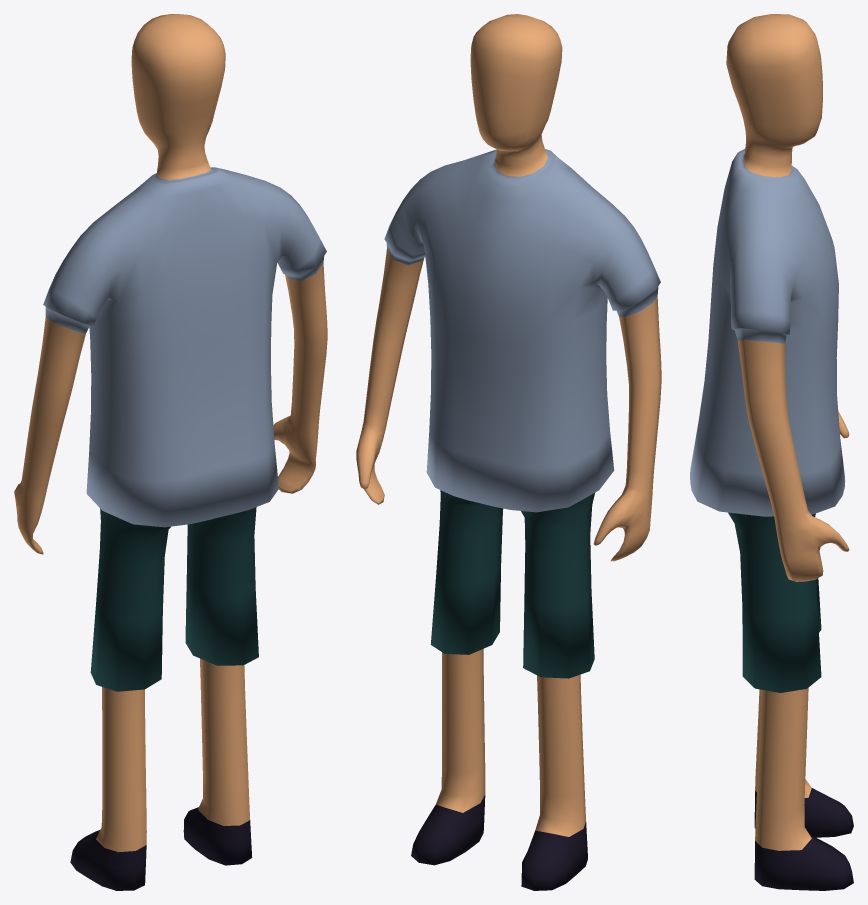
Rendered from Modelo Personaje para Mixamo.fbx.
The picture shows the model from 3 angles, left to right: view 1: azimuth 30°, elevation 25°; view 2: azimuth 150°, elevation 25°; view 3: azimuth 270°, elevation 25°; orthographic projection. The views are drawn at different scales.
Visible parts, largest first — view 1: Personaje; view 2: Personaje; view 3: Personaje.
Boxes of the visible parts, box(x1,y1,x2,y2) form: Personaje: box(14, 14, 327, 890); Personaje: box(356, 14, 661, 890); Personaje: box(690, 14, 853, 890).
Size of the model in its own units: 62.64 by 175 by 31.19.
1 material, 1 textured.
